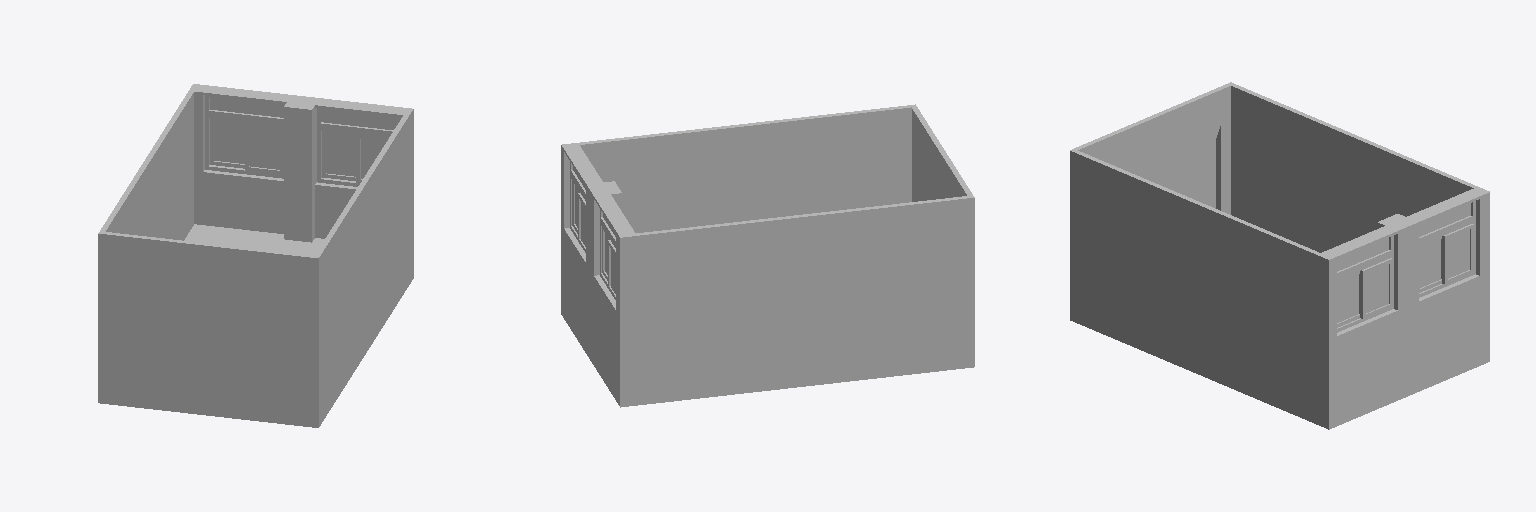
3 renders of one model, left to right at view 1: azimuth 30°, elevation 25°; view 2: azimuth 150°, elevation 25°; view 3: azimuth 270°, elevation 25°, orthographic.
Parts seen in each view (by area): view 1: Mesh3 Group3 Model, Mesh1 Group1 Model, Mesh4 Group4 Model, Mesh2 Group2 Model, Mesh5 Group5 Model, Mesh6 Group6 Model, Mesh11 Glazing2 Window_Sliding_Casement_14_1 Window_Sliding_7_1 , Mesh8 Glazing Window_Sliding_Casement_14 Window_Sliding_7_1 Grou, Mesh21 Glazing8 Window_Sliding_Casement_14_3 Window_Sliding_7_2 , Mesh7 Window_Sliding_Main_Frame_7 Window_Sliding_7_1 Group7 Mode, Mesh25 Glazing10 Window_Fixed_2_2 Group8 Model, Mesh15 Glazing4 Window_Fixed_2_1 Group7 Model (+3 smaller); view 2: Mesh5 Group5 Model, Mesh4 Group4 Model, Mesh1 Group1 Model, Mesh2 Group2 Model, Mesh3 Group3 Model, Mesh6 Group6 Model; view 3: Mesh4 Group4 Model, Mesh5 Group5 Model, Mesh2 Group2 Model, Mesh3 Group3 Model, Mesh1 Group1 Model, Mesh6 Group6 Model, Mesh22 Glazing9 Window_Sliding_Casement_14_3 Window_Sliding_7_2 , Mesh19 Glazing7 Window_Sliding_Casement_14_2 Window_Sliding_7_2 , Mesh9 Glazing1 Window_Sliding_Casement_14 Window_Sliding_7_1 Gro, Mesh12 Glazing3 Window_Sliding_Casement_14_1 Window_Sliding_7_1 , Mesh23 Window_Sliding_Casement_14_3 Window_Sliding_7_2 Group8 Mo, Mesh13 Window_Sliding_Casement_14_1 Window_Sliding_7_1 Group7 Mo (+3 smaller).
Boxes of the visible parts, x1=… form: Mesh3 Group3 Model: x1=98, y1=231, x2=319, y2=390; Mesh1 Group1 Model: x1=98, y1=224, x2=408, y2=427; Mesh4 Group4 Model: x1=315, y1=115, x2=408, y2=387; Mesh2 Group2 Model: x1=189, y1=84, x2=413, y2=284; Mesh5 Group5 Model: x1=100, y1=91, x2=193, y2=240; Mesh6 Group6 Model: x1=284, y1=102, x2=314, y2=242; Mesh11 Glazing2 Window_Sliding_Casement_14_1 Window_Sliding_7_1 : x1=214, y1=121, x2=244, y2=163; Mesh8 Glazing Window_Sliding_Casement_14 Window_Sliding_7_1 Grou: x1=249, y1=127, x2=279, y2=169; Mesh21 Glazing8 Window_Sliding_Casement_14_3 Window_Sliding_7_2 : x1=326, y1=133, x2=355, y2=176; Mesh7 Window_Sliding_Main_Frame_7 Window_Sliding_7_1 Group7 Mode: x1=205, y1=113, x2=283, y2=178; Mesh25 Glazing10 Window_Fixed_2_2 Group8 Model: x1=321, y1=110, x2=395, y2=129; Mesh15 Glazing4 Window_Fixed_2_1 Group7 Model: x1=210, y1=97, x2=283, y2=117; Mesh5 Group5 Model: x1=636, y1=196, x2=968, y2=367; Mesh4 Group4 Model: x1=579, y1=105, x2=911, y2=232; Mesh1 Group1 Model: x1=637, y1=330, x2=974, y2=405; Mesh2 Group2 Model: x1=561, y1=143, x2=636, y2=407; Mesh3 Group3 Model: x1=910, y1=104, x2=974, y2=330; Mesh6 Group6 Model: x1=586, y1=181, x2=621, y2=327; Mesh4 Group4 Model: x1=1074, y1=151, x2=1319, y2=386; Mesh5 Group5 Model: x1=1231, y1=84, x2=1477, y2=252; Mesh2 Group2 Model: x1=1317, y1=187, x2=1489, y2=429; Mesh3 Group3 Model: x1=1070, y1=82, x2=1233, y2=284; Mesh1 Group1 Model: x1=1070, y1=283, x2=1316, y2=424; Mesh6 Group6 Model: x1=1377, y1=214, x2=1418, y2=358; Mesh22 Glazing9 Window_Sliding_Casement_14_3 Window_Sliding_7_2 : x1=1366, y1=264, x2=1388, y2=312; Mesh19 Glazing7 Window_Sliding_Casement_14_2 Window_Sliding_7_2 : x1=1337, y1=274, x2=1358, y2=322; Mesh9 Glazing1 Window_Sliding_Casement_14 Window_Sliding_7_1 Gro: x1=1419, y1=240, x2=1440, y2=288; Mesh12 Glazing3 Window_Sliding_Casement_14_1 Window_Sliding_7_1 : x1=1448, y1=230, x2=1469, y2=278; Mesh23 Window_Sliding_Casement_14_3 Window_Sliding_7_2 Group8 Mo: x1=1360, y1=258, x2=1392, y2=318; Mesh13 Window_Sliding_Casement_14_1 Window_Sliding_7_1 Group7 Mo: x1=1442, y1=224, x2=1473, y2=284.
Size of the model in its own units: 7.19 by 3.2 by 7.19.